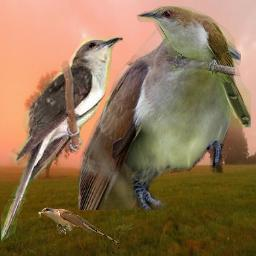Cuckoo: (78, 22, 241, 210), (1, 36, 123, 241), (137, 6, 251, 128), (36, 207, 120, 244)
